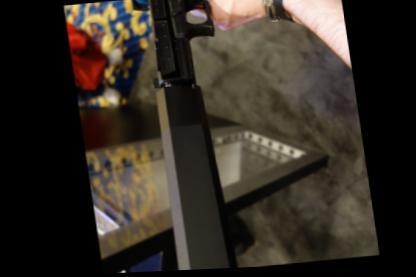pistol: (125, 0, 287, 93)
